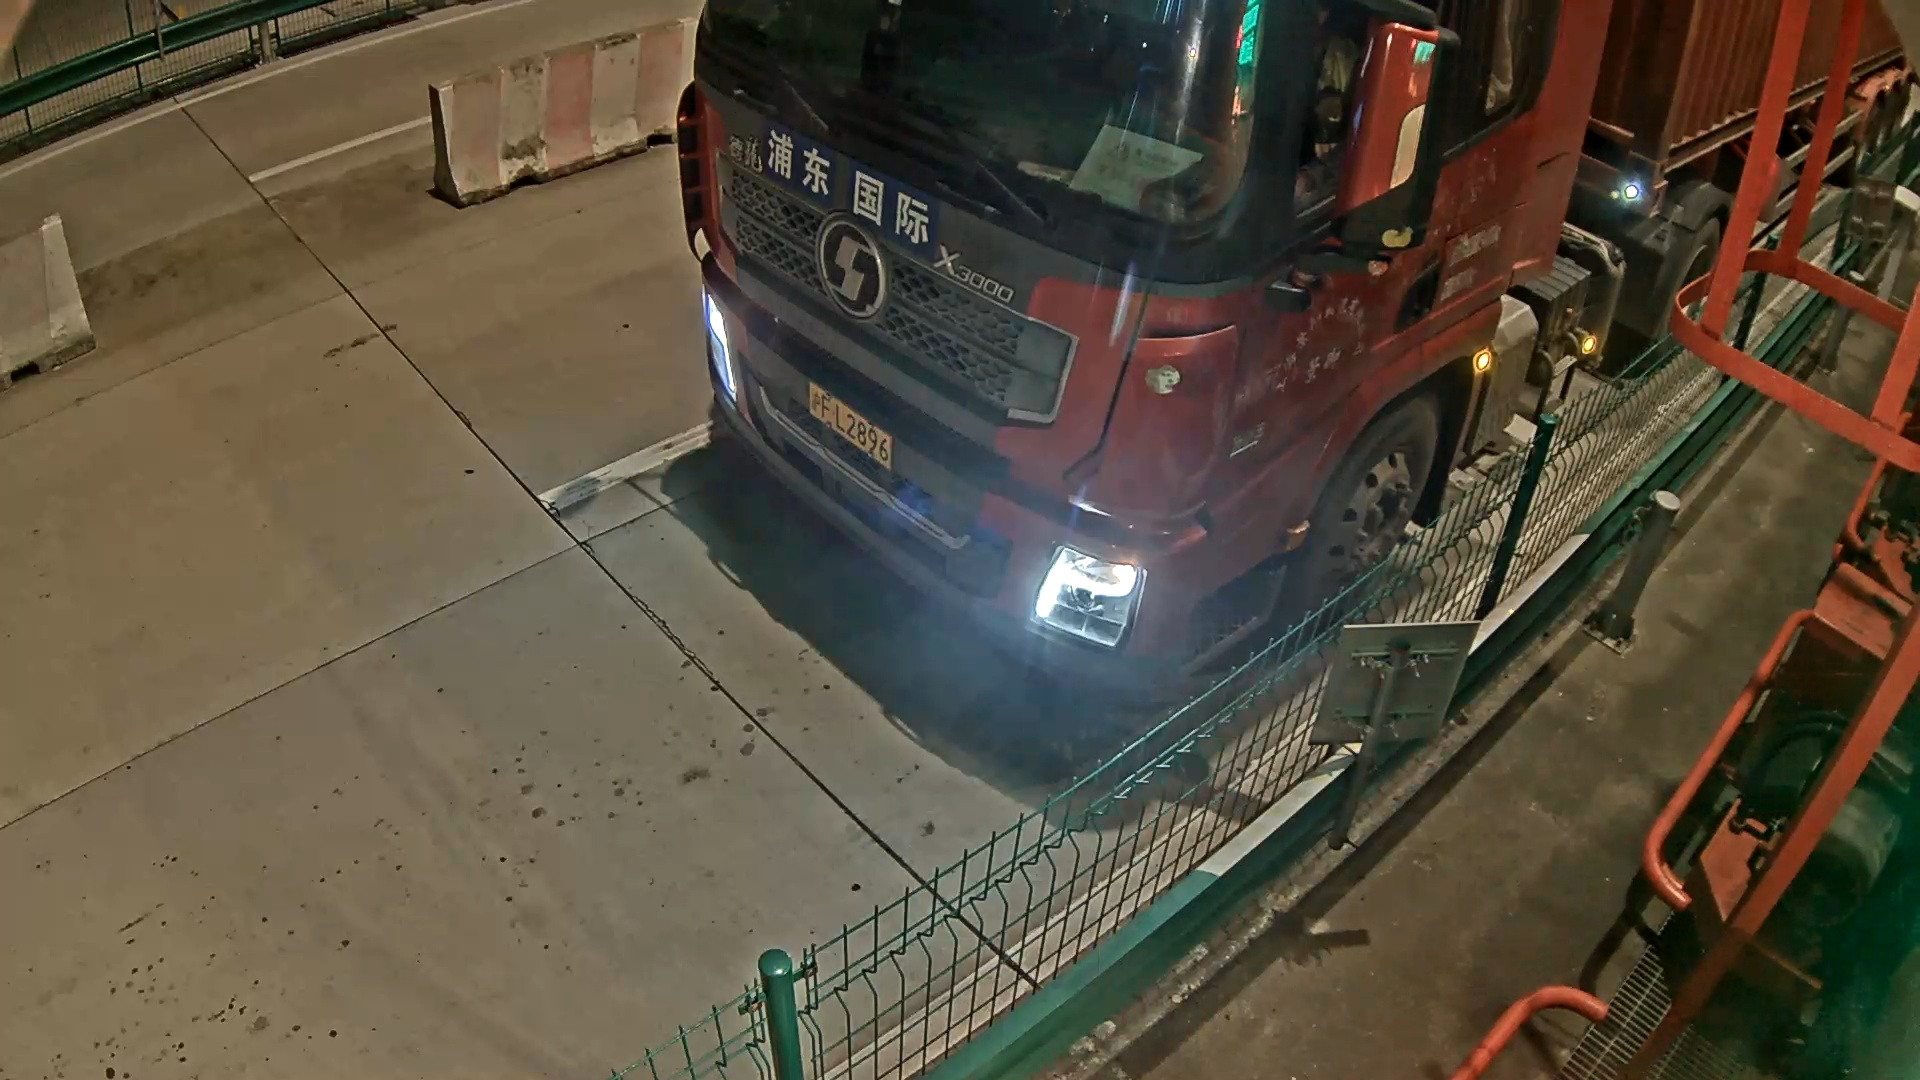head: (663, 14, 1437, 756)
plate: (799, 377, 909, 483)
